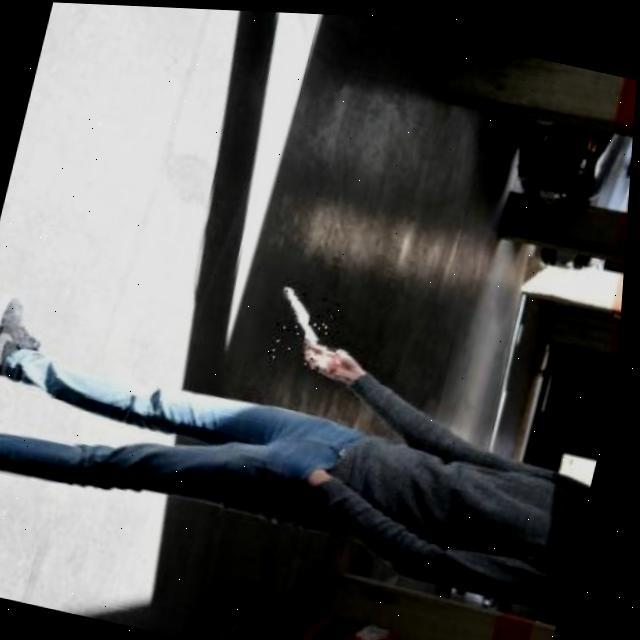knife: (268, 282, 356, 370)
